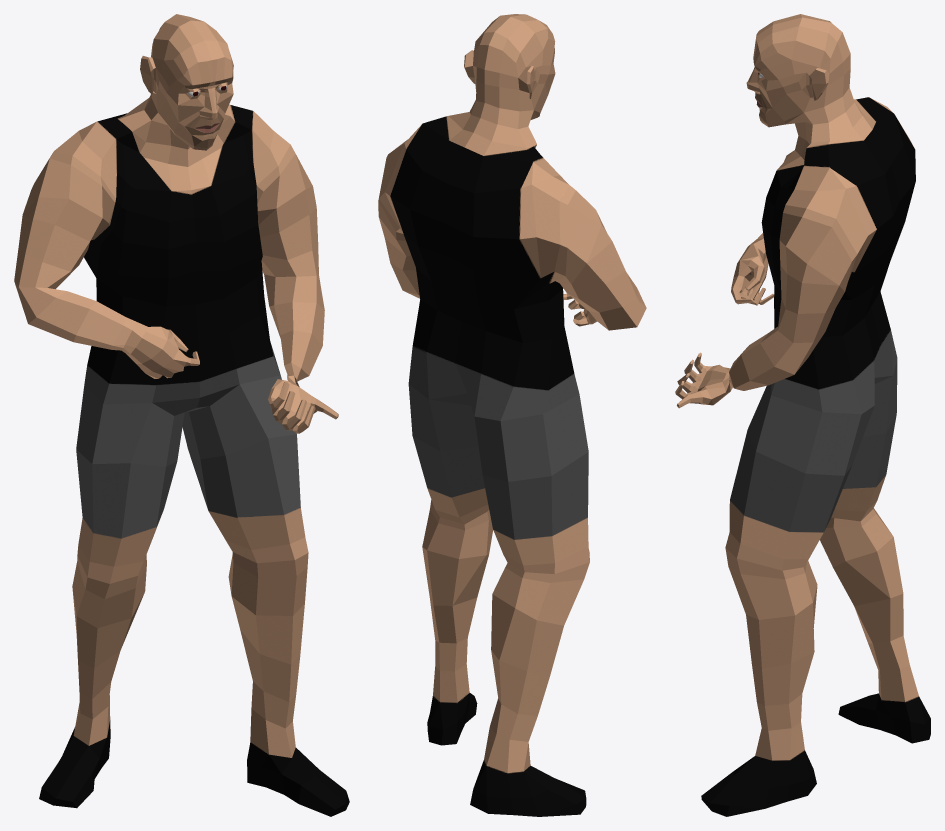
Rendered from PlayerIdle(56).obj.
The picture shows the model from 3 angles, left to right: view 1: azimuth 30°, elevation 25°; view 2: azimuth 150°, elevation 25°; view 3: azimuth 270°, elevation 25°; orthographic projection. The views are drawn at different scales.
Parts seen in each view (by area): view 1: Plane002; view 2: Plane002; view 3: Plane002.
Part boxes in pixels (x1,y1,x2,y2): Plane002: (14, 14, 349, 816); Plane002: (378, 14, 646, 816); Plane002: (675, 14, 930, 816).
Bounding box in the file's own units: 671 × 1801 × 561.
